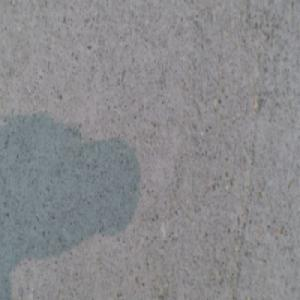Washer: (159, 290, 181, 299)
